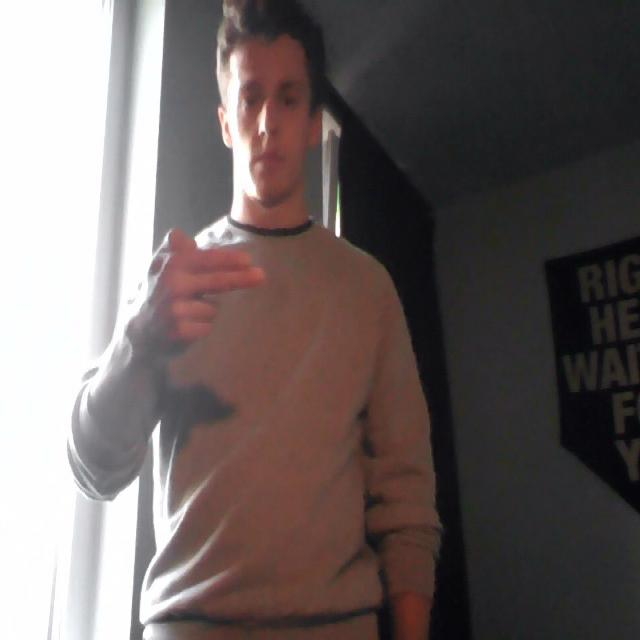right: (123, 216, 278, 350)
